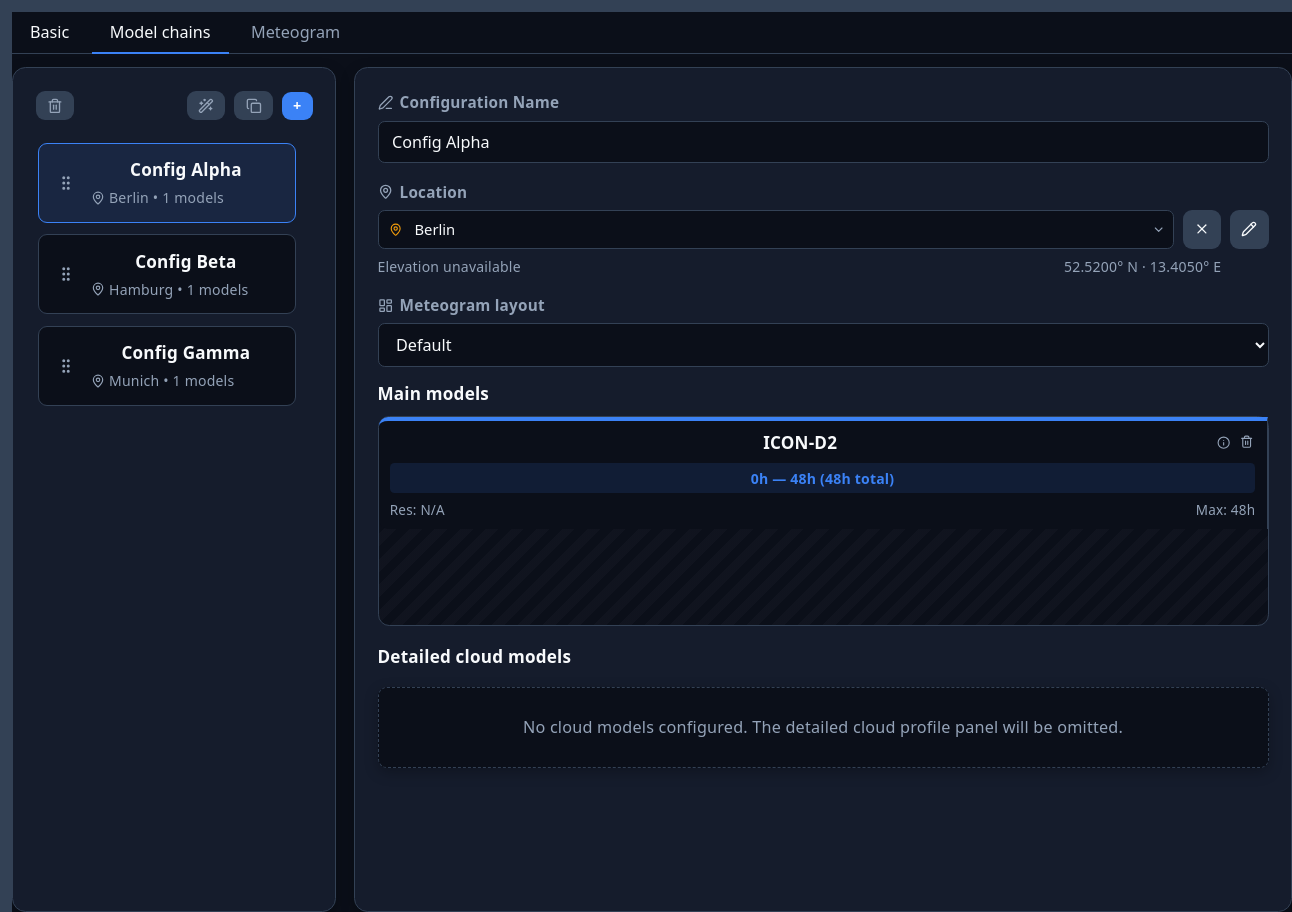
Test: Configuration List Toolbar, Duplication & Drag-and-Drop Reordering › duplicates selected configuration, inserts directly after source, and selects it
Expected: the text "Config Alpha" is shown, [130,158,242,181]
Click the button named "Duplicate selected configuration" at (254, 106), box [234,91,273,120]
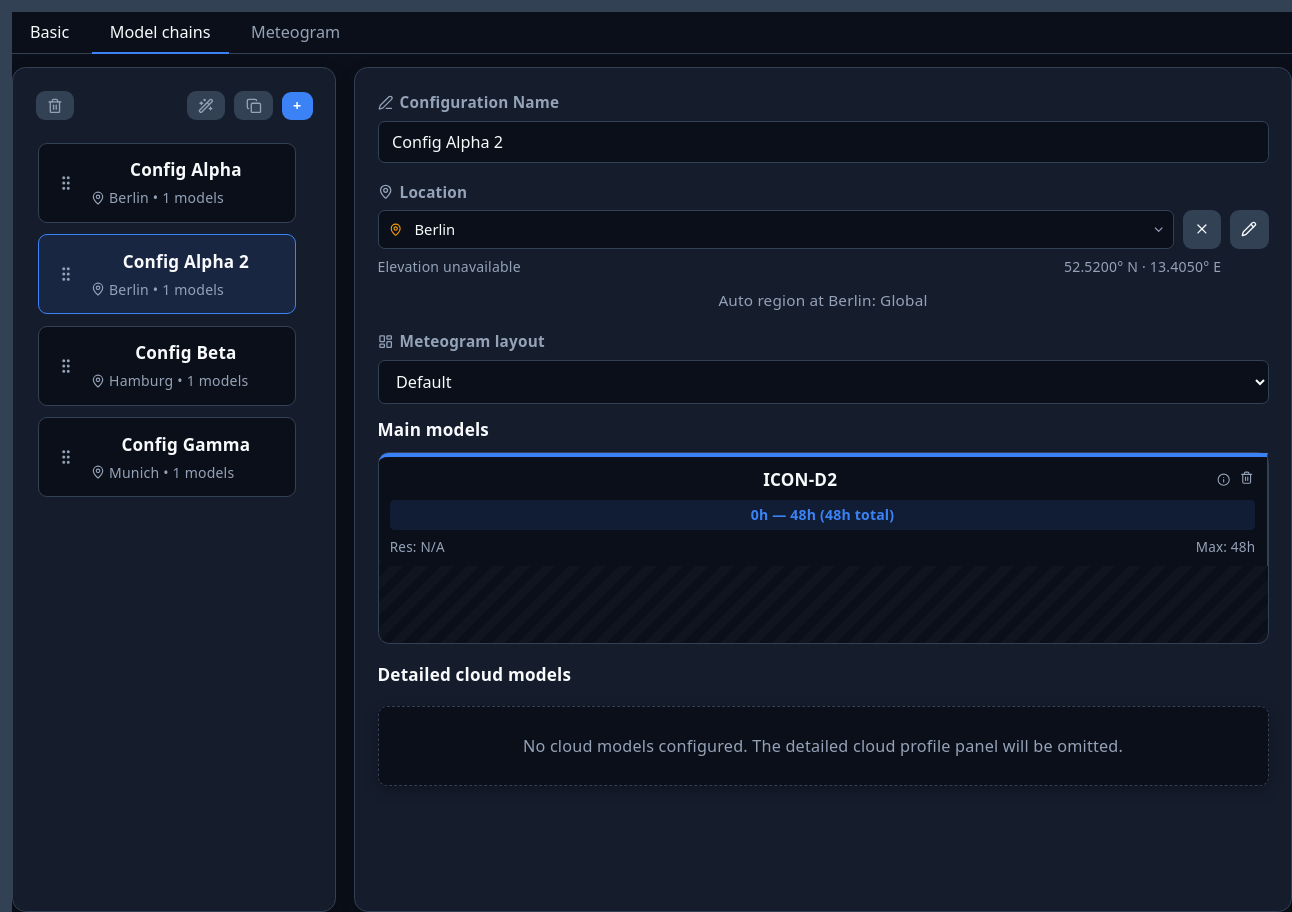
Result: the text "Config Alpha 2" is shown at [123,250,249,273]
